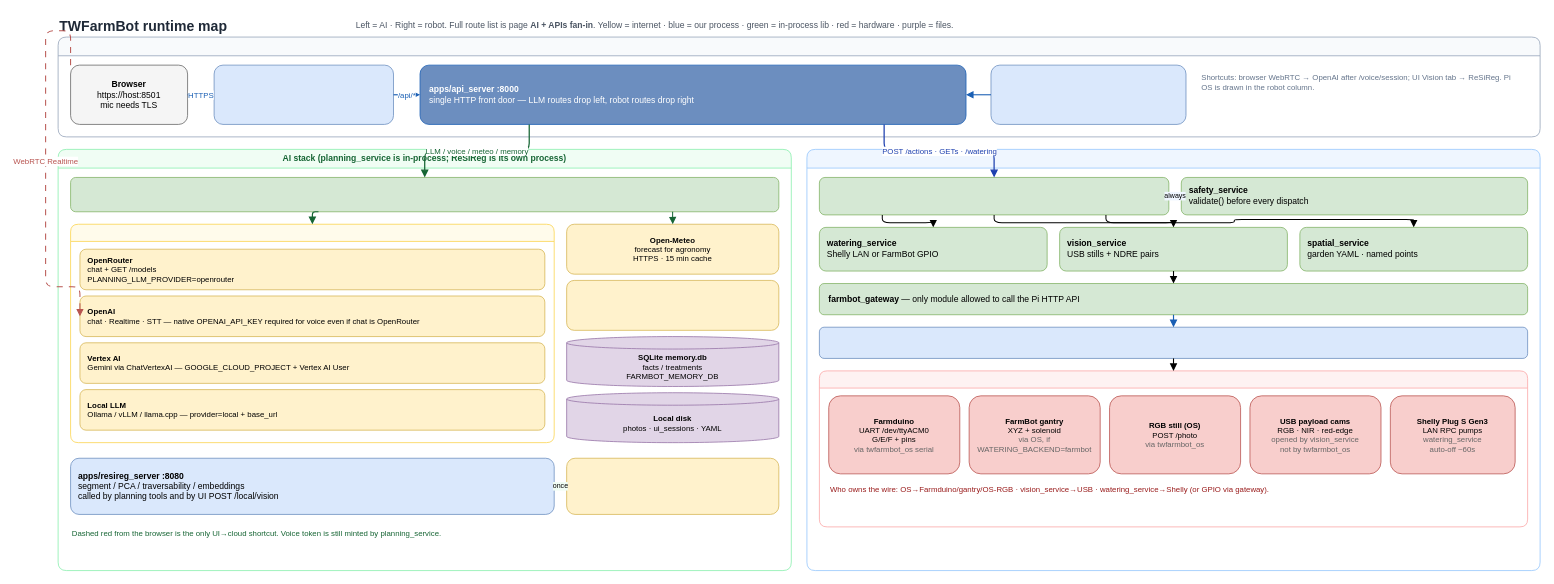
This 1554x584 diagram has some shape labels left out. Each missing label, with the box of its shape:
apps/twfarmbot_os :3001 — /move /command /photo /water /pins /state /stop: (819, 326, 1528, 358)
apps/ui :8501 SPA · proxies /api/* → :8000: (213, 64, 394, 124)
apps/worker inspect_zone → POST /actions: (990, 64, 1186, 124)
Chat completions — exactly one of these: (70, 223, 554, 443)
core ActionRegistry dispatch(kind): (819, 177, 1169, 215)
Field hardware / LAN: (819, 370, 1528, 527)
Hugging Face resireg_mini weights pulled once, then local: (566, 457, 779, 514)
Operator and HTTP processes: (57, 36, 1540, 137)
planning_service — AgentLoop · providers · realtime mint · transcribe: (70, 177, 779, 212)
Robot stack (in-process libs → Pi OS process → hardware): (806, 149, 1540, 571)
W&B Weave optional LLM traces WEAVE_PROJECT: (566, 280, 779, 330)
